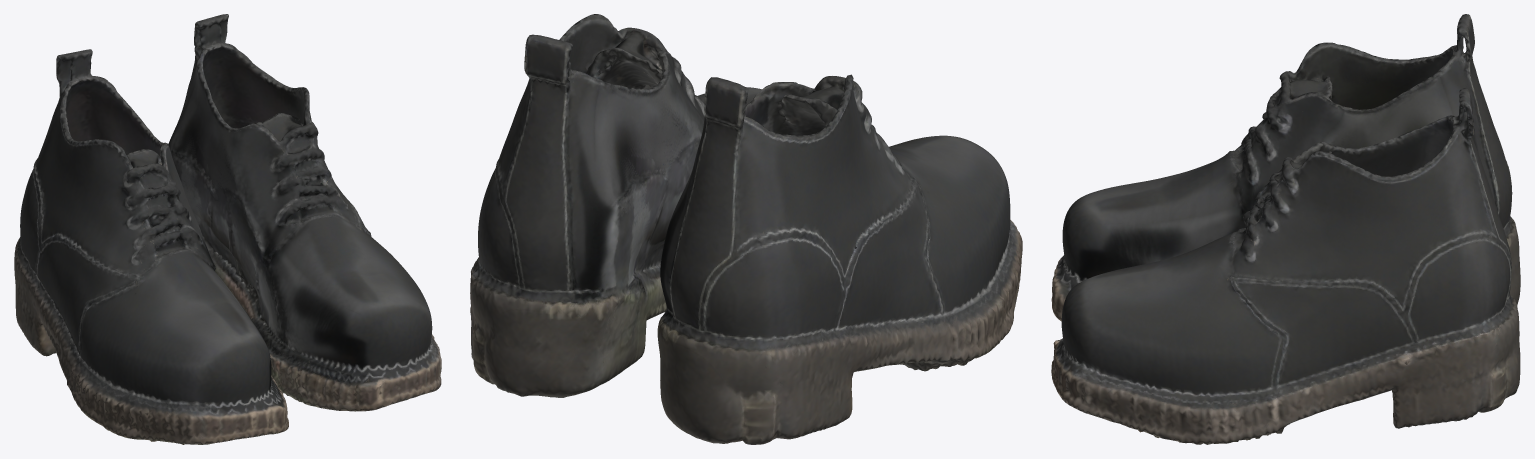
Rendered from les-derbies-femme_hq_idx4.glb.
3 views of the same model, side by side, from view 1: azimuth 30°, elevation 25°; view 2: azimuth 150°, elevation 25°; view 3: azimuth 270°, elevation 25° (orthographic). The views are drawn at different scales.
Size of the model in its own units: 1.8 by 1.44 by 2.
1 material, 1 textured.
